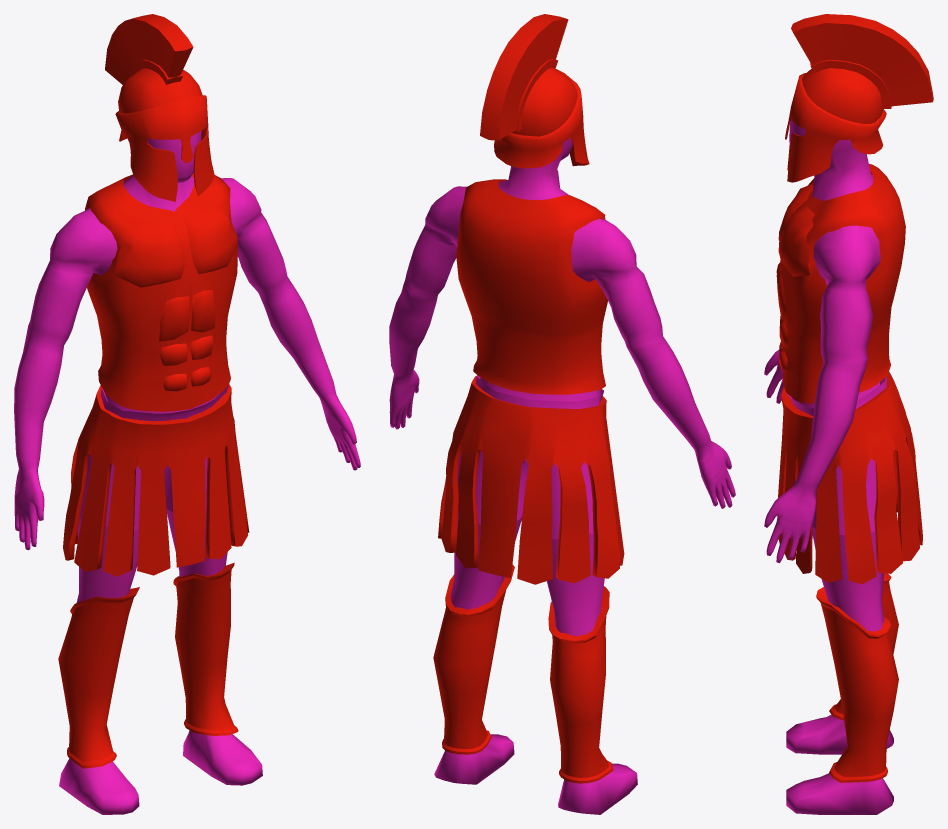
The model's file is GladiatorModel.fbx.
The picture shows the model from 3 angles, left to right: view 1: azimuth 30°, elevation 25°; view 2: azimuth 150°, elevation 25°; view 3: azimuth 270°, elevation 25°; orthographic projection.
Parts seen in each view (by area): view 1: Cube.005, Cube.004; view 2: Cube.005, Cube.004; view 3: Cube.005, Cube.004.
Boxes of the visible parts, x1,y1,x2,y2 form: Cube.005: (58, 14, 249, 768); Cube.004: (14, 131, 360, 814); Cube.005: (433, 14, 624, 783); Cube.004: (389, 138, 735, 814); Cube.005: (776, 14, 933, 782); Cube.004: (764, 120, 893, 814).
Bounding box in the file's own units: 86.84 × 190 × 38.62.
